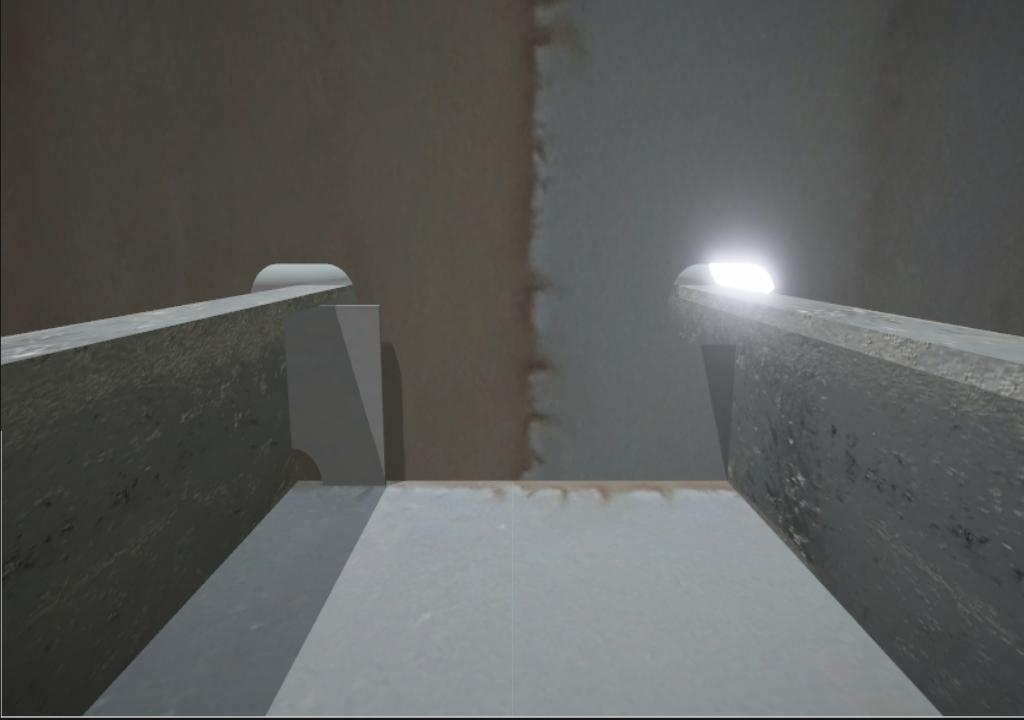fillet_yong_jeop_jang: (295, 475, 733, 487)
longi_yong_jeop_jang: (721, 341, 743, 490)
plate_CP02: (285, 304, 387, 487)
